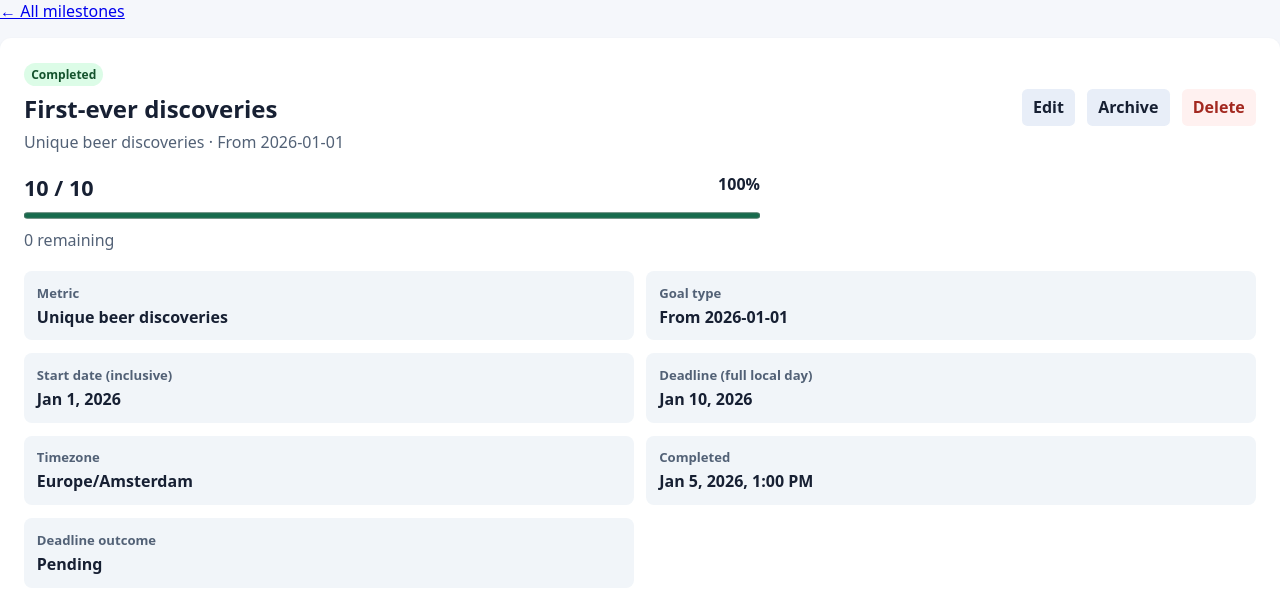
it: completed milestones remain editable and display recalculated backend data
The image size is (1280, 608).
expect the heading "First-ever discoveries" is shown: met, box [24, 92, 278, 125]
Click the button "Edit" at point(1048, 107), box [1022, 88, 1075, 126]
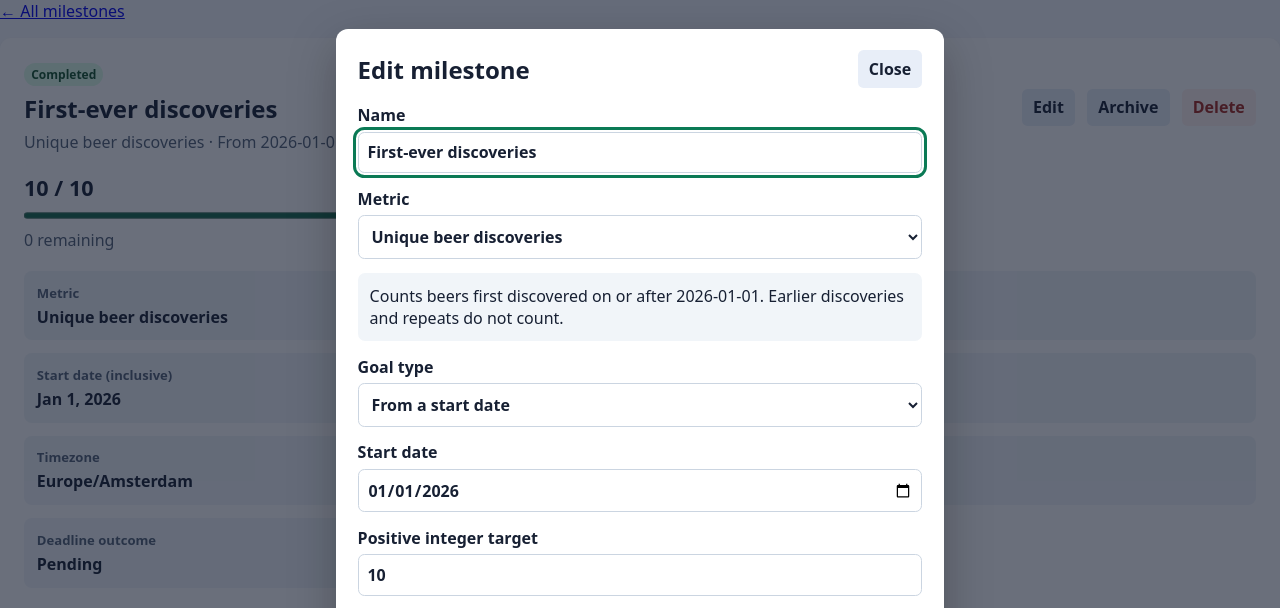
Replace the text in the number field labelled "Positive integer target" with "11" at point(640, 575), box [358, 554, 922, 596]
(page scrolled)
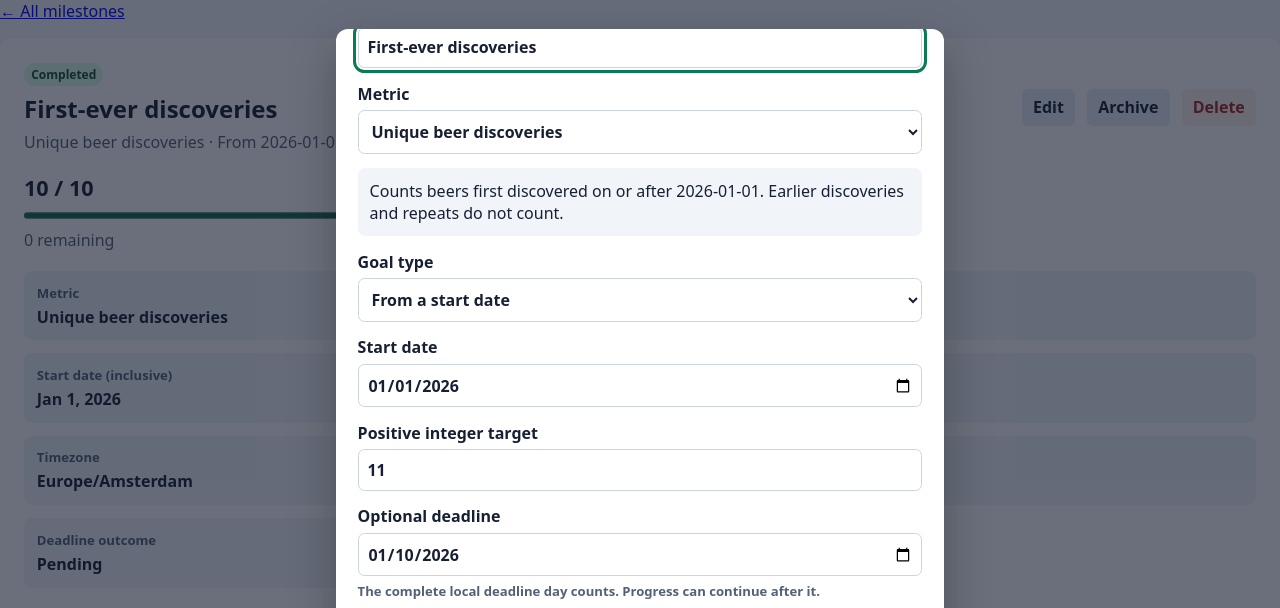
Submit the form named "Save changes"
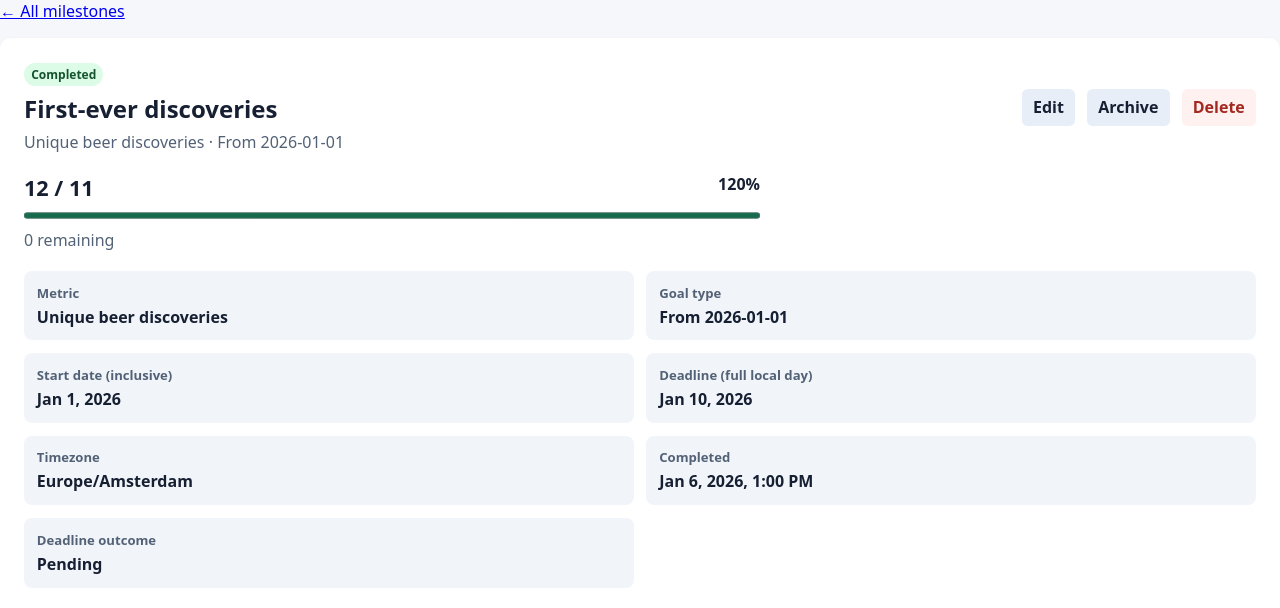
expect the text "12 / 11" is shown: met, box [24, 173, 94, 202]
expect the text "120%" is shown: met, box [718, 173, 760, 202]
expect the text "Jan 6, 2026, 1:00 PM" is shown: met, box [659, 470, 813, 492]
